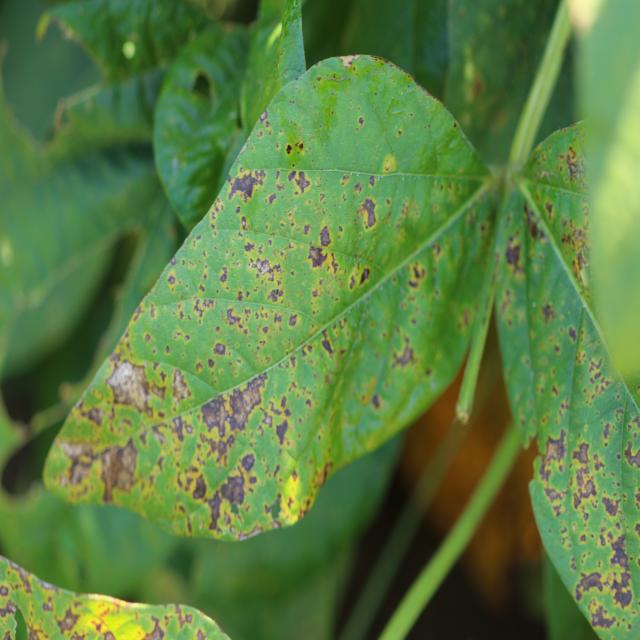Bacterial_Blight: (98, 437, 139, 503), (115, 357, 158, 410), (60, 440, 99, 490), (215, 468, 248, 513), (361, 197, 393, 236), (227, 169, 264, 202), (201, 396, 226, 435), (247, 255, 279, 281), (392, 339, 415, 368), (170, 368, 189, 401), (191, 297, 215, 322), (288, 169, 311, 195), (358, 198, 377, 229), (170, 415, 189, 443), (308, 244, 329, 269), (191, 473, 208, 500), (275, 418, 290, 445), (321, 330, 336, 356), (285, 139, 304, 159), (318, 225, 332, 247), (241, 452, 255, 472), (267, 287, 282, 303), (358, 267, 370, 285), (213, 342, 227, 356), (371, 393, 382, 410), (219, 266, 228, 284), (244, 240, 255, 253), (288, 314, 298, 327), (354, 180, 363, 194), (241, 216, 248, 230), (285, 143, 293, 154), (368, 175, 375, 187), (358, 116, 364, 126)
Soybean: (40, 55, 504, 544)
